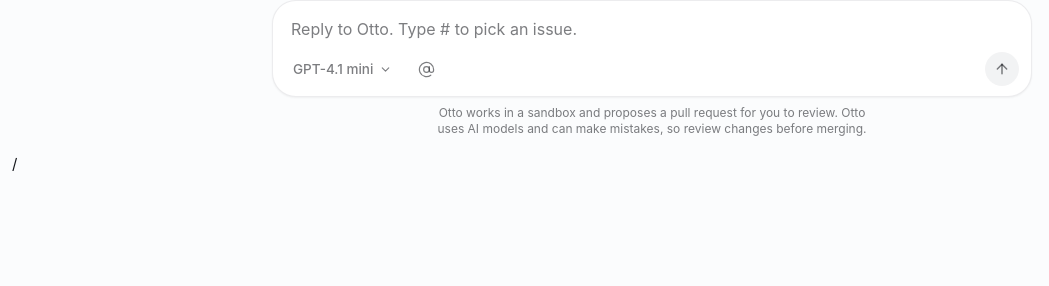
Test case: a 409 because Otto is still working says so plainly
In the text box named "Message Otto": (655, 30) [291, 15, 1019, 44], type "x"
Then press Enter
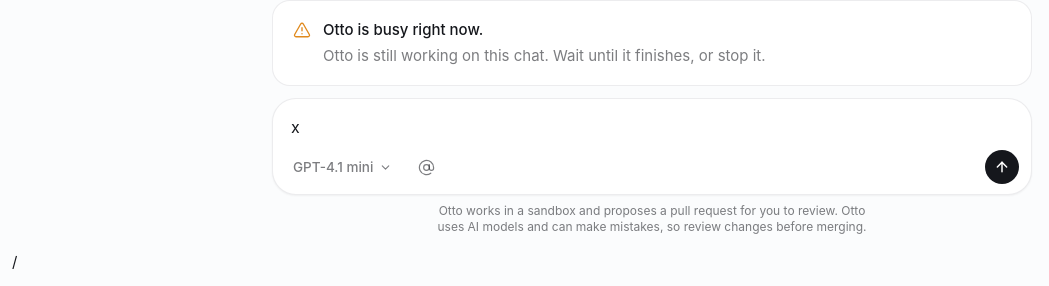
Check: the text "Otto is still working on this chat. Wait until it finishes, or stop it." is shown, box [323, 46, 766, 64]
